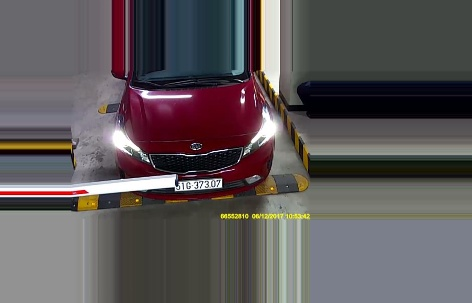plate: (173, 177, 223, 192)
